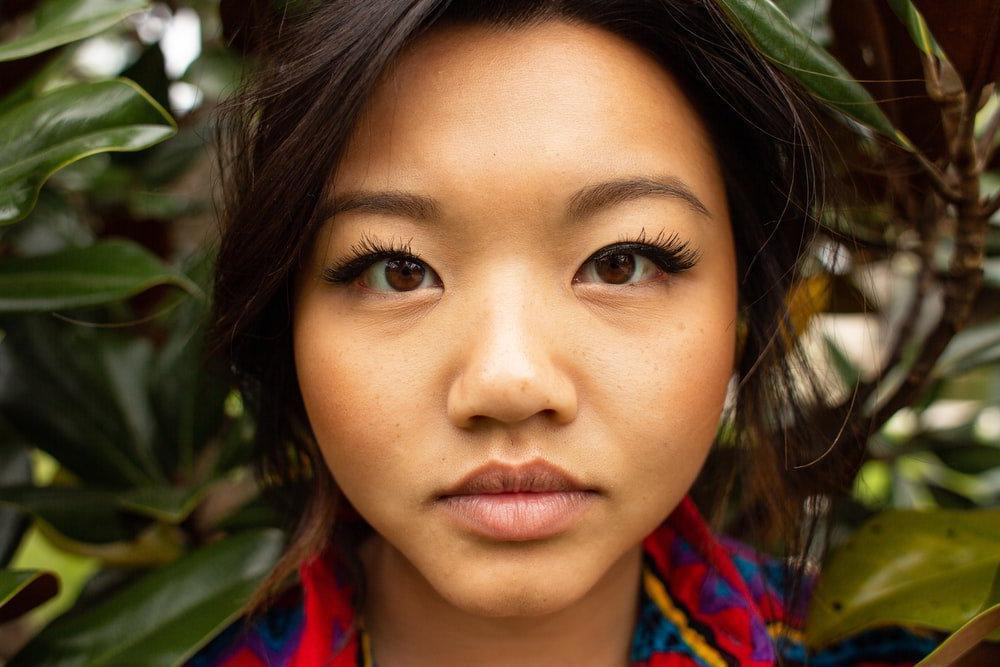Sober: (312, 79, 716, 587)
